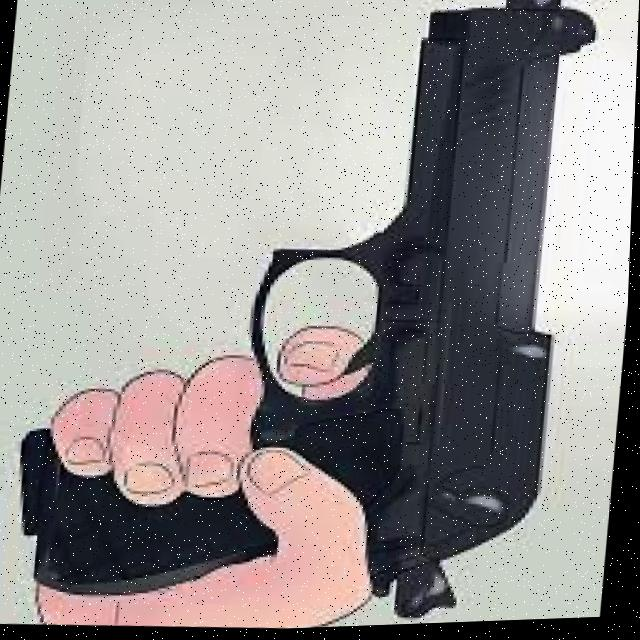pistol: (234, 0, 609, 633)
